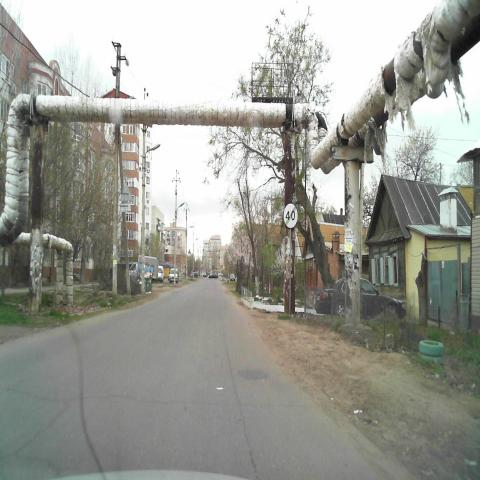3_25: (284, 202, 298, 229)
